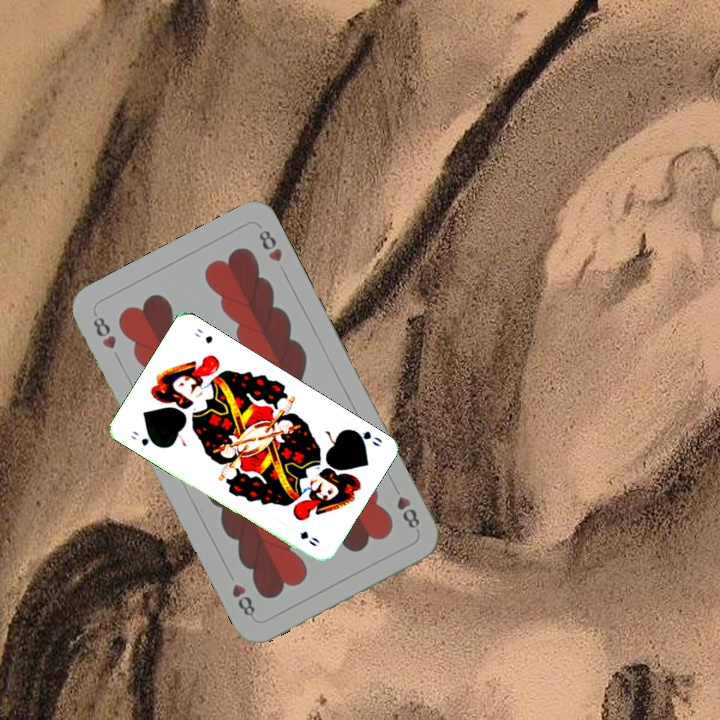GO: (346, 425, 385, 449), (126, 427, 161, 449)
H8: (89, 308, 119, 352), (392, 492, 423, 531)
